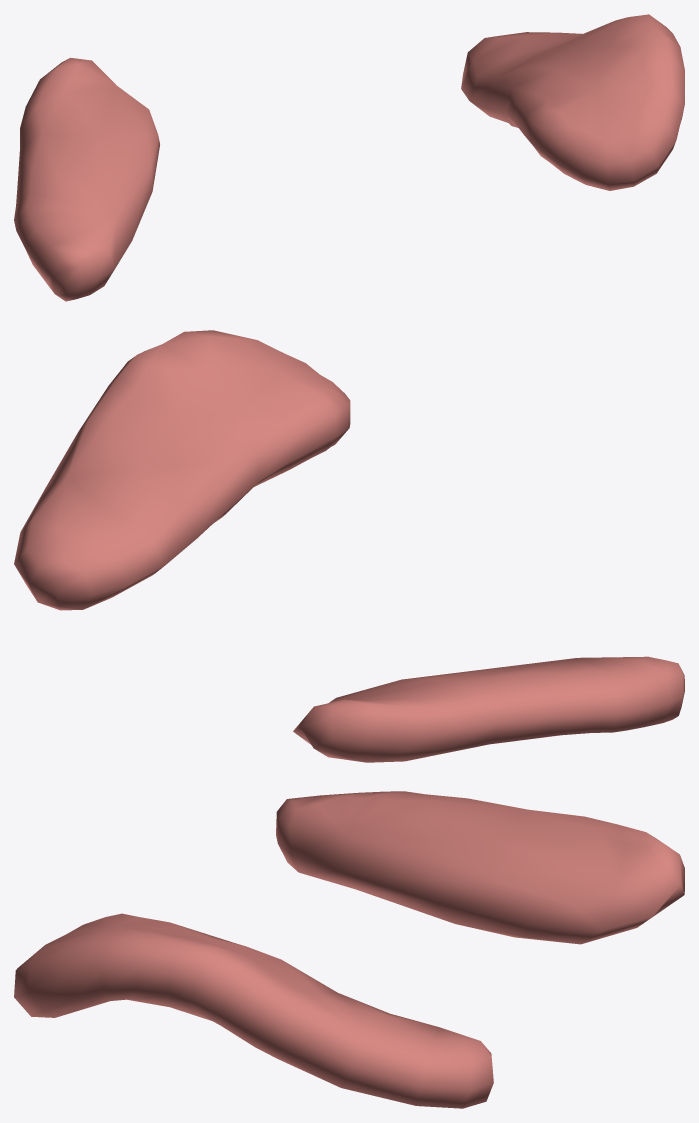
3 renders of one model, top to bottom at view 1: azimuth 30°, elevation 25°; view 2: azimuth 150°, elevation 25°; view 3: azimuth 270°, elevation 25°, orthographic. The views are drawn at different scales.
Visible parts, largest first — view 1: ZA_b96f58d859b9809c; view 2: ZA_b96f58d859b9809c; view 3: ZA_b96f58d859b9809c.
Part boxes in pixels (box(x1,y1,x2,y2)): ZA_b96f58d859b9809c: box(14, 14, 684, 301); ZA_b96f58d859b9809c: box(14, 330, 684, 762); ZA_b96f58d859b9809c: box(14, 791, 684, 1108).
Size of the model in its own units: 0.0053 by 0.00163 by 0.00455.
